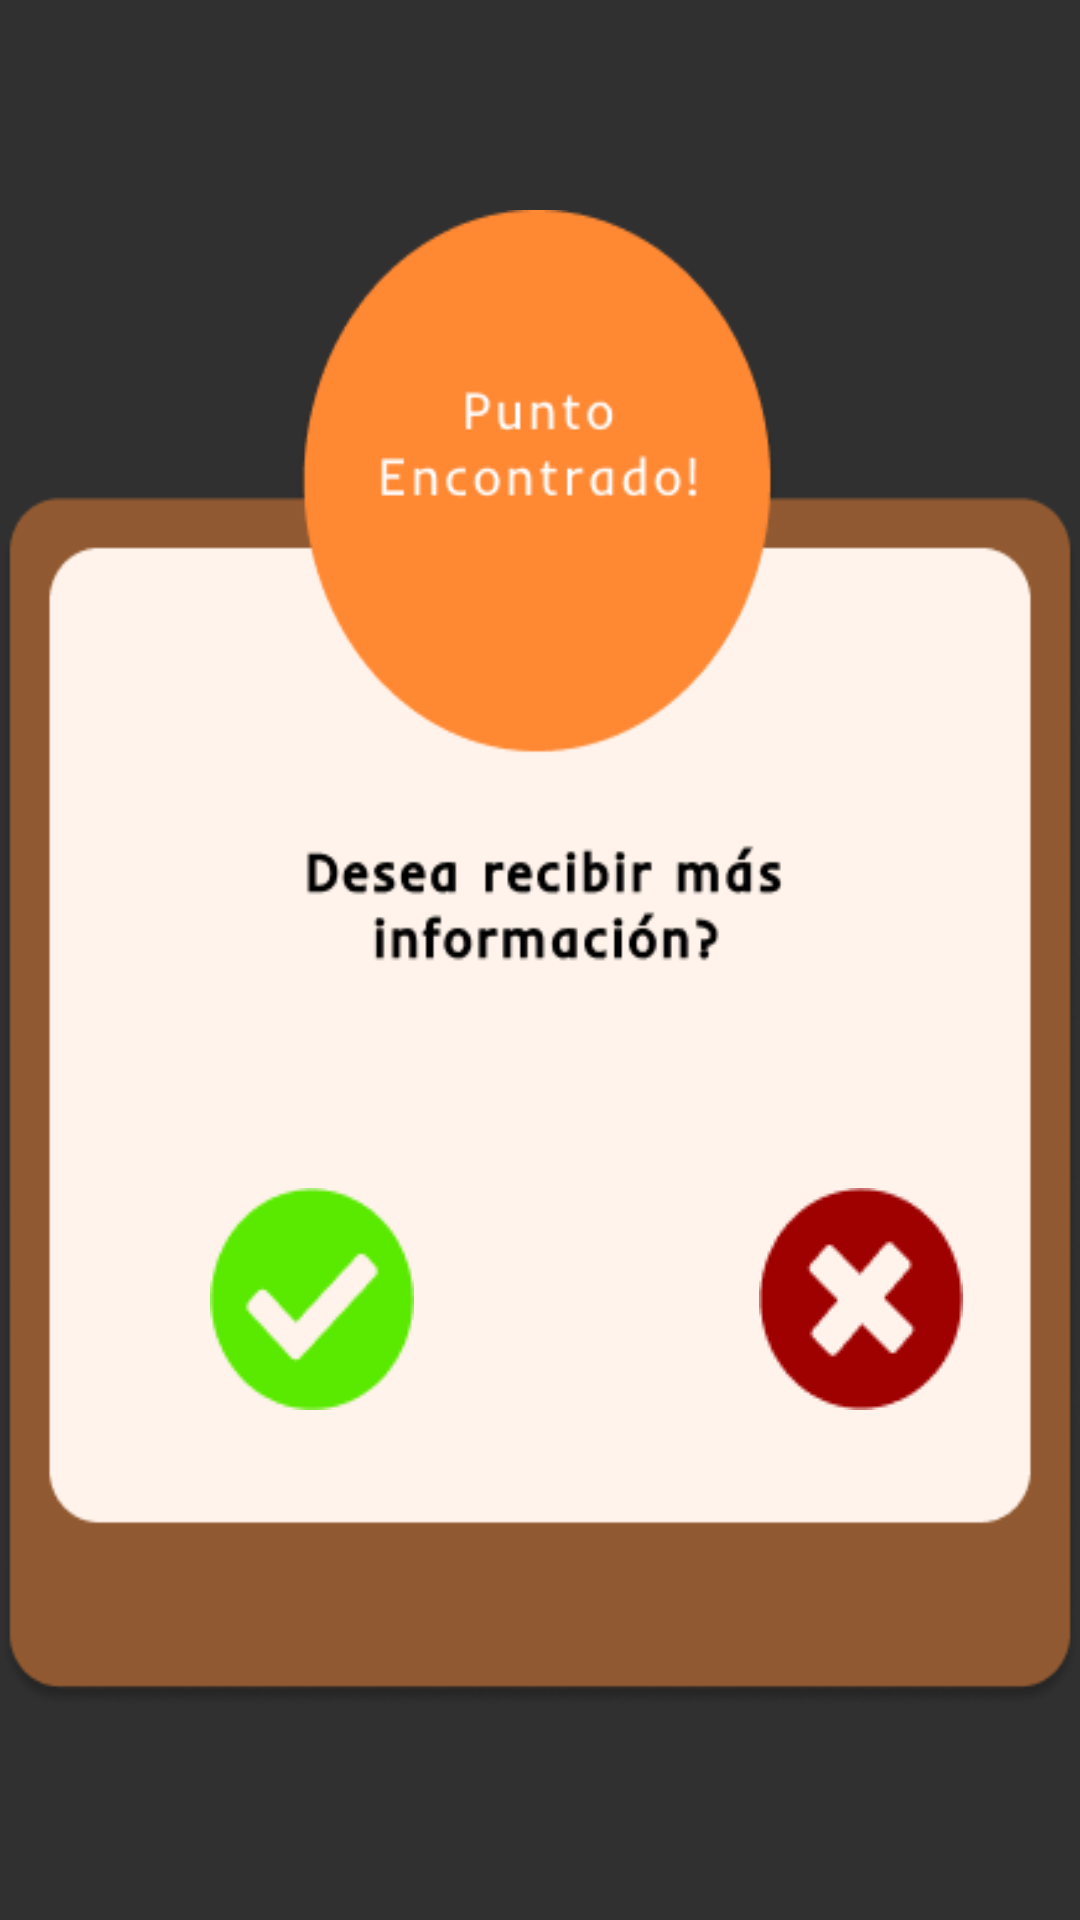

Locate icon controls on the screen. Image size 1080 x 1920, boxes as (x1, y1, x2, y2).
accept: (210, 1188, 414, 1410)
close: (759, 1188, 963, 1410)
